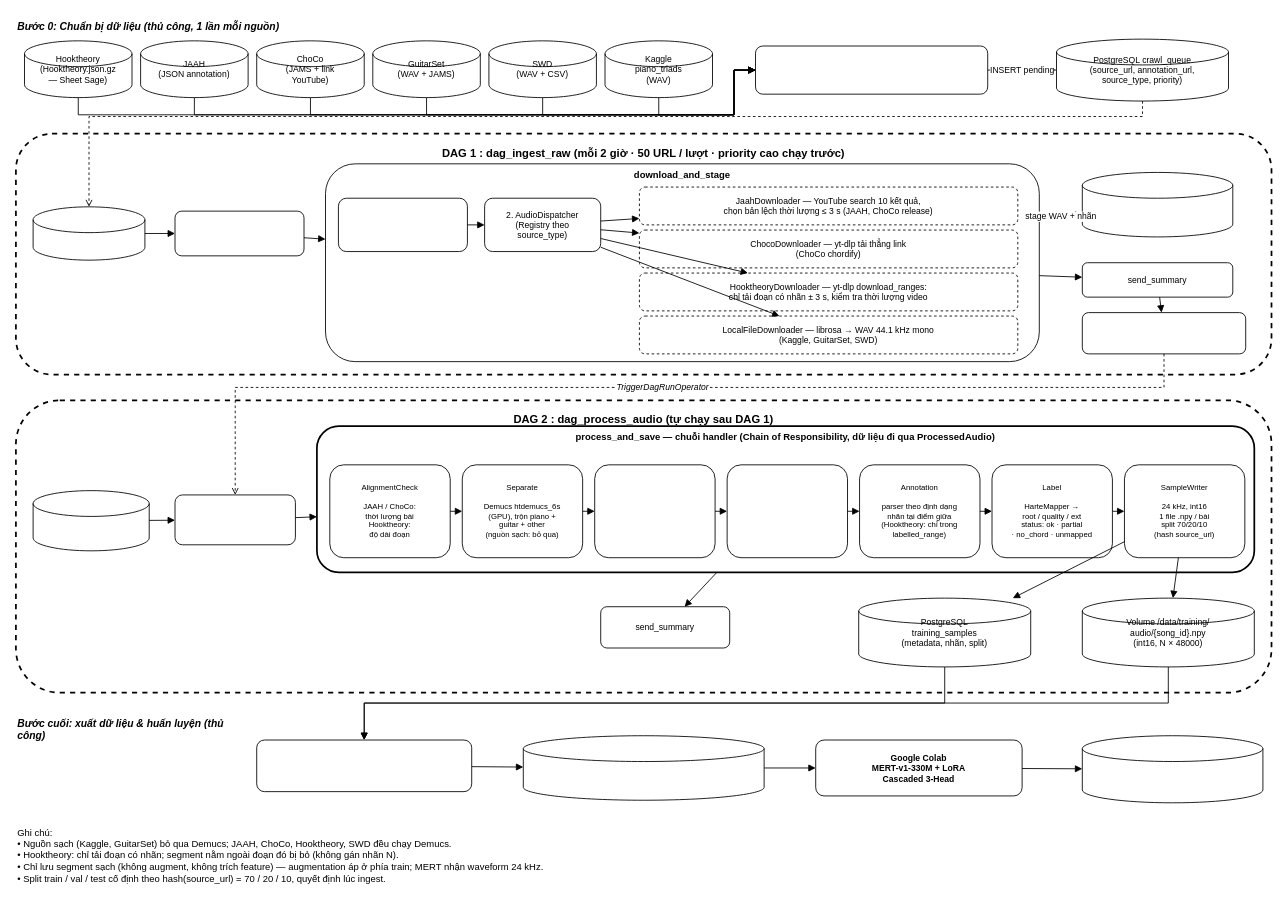
The diagram is 1287 pixels wide and 913 high, and some of its shapes have lost their labels. Here are the shapes that lost their labels. From the top down, the centre of each, then its label:
point 871,69: seed_local_datasets.py (scanner riêng từng nguồn; --hooktheory-scope rare | all)
point 402,224: 1. Copy file nhãn đọc duration / section từ annotation
point 1157,204: MongoDB raw_audio_jobs (staging: wav_path, annotation_path)
point 88,233: PostgreSQL crawl_queue
point 239,233: pick_urls (ORDER BY priority DESC, created_at)
point 1163,333: trigger_dag_process (TriggerDagRunOperator)
point 90,520: MongoDB raw_audio_jobs (cùng collection ở DAG 1)
point 234,519: pick_pending_jobs
point 654,511: Beat librosa beat_track
point 787,511: Segment cửa sổ 2 s, bước 1.5 s, snap theo beat
point 364,765: export_dataset.py (gom theo split train / val / test)
point 643,767: data/export {train,val,test}_audio.npy + _meta.parquet + classes.json
point 1172,769: Model chord recognition Root 12 · Quality 5 · Extension 15
